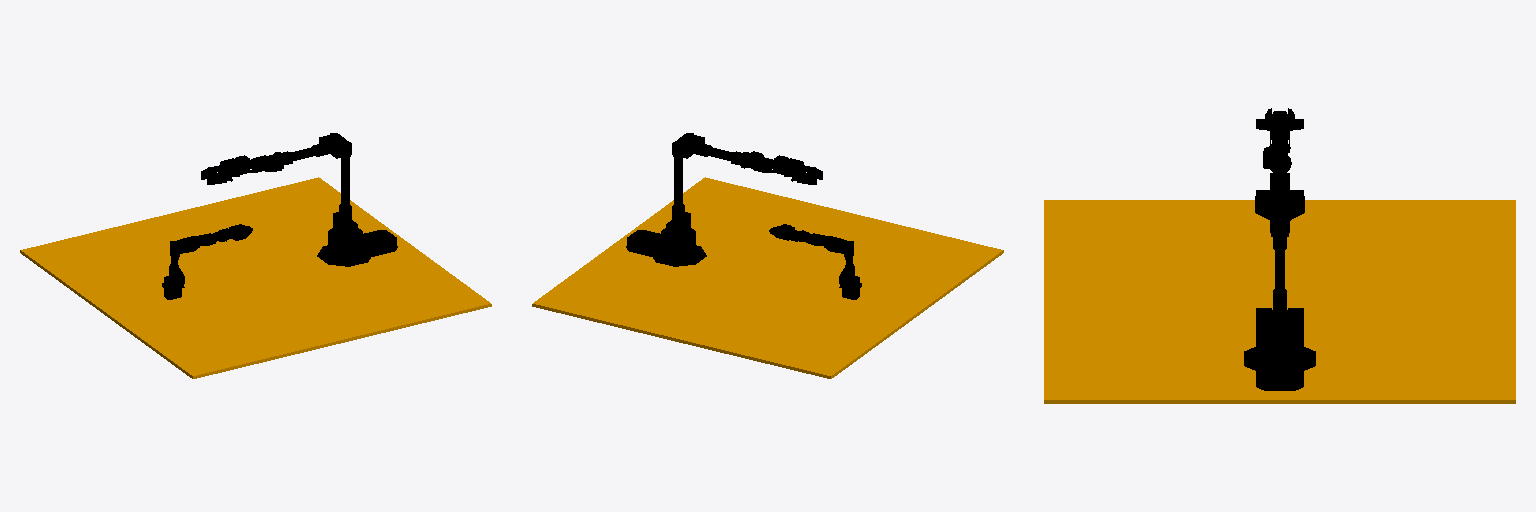
robot.urdf — wx250s:
<robot name="wx250s">


  <link name="floor">
    <visual>
      <origin xyz="0 0 0" rpy="0 0 0"/>
      <geometry>
        <box size="1 1 0.01"/>
      </geometry>
    </visual>
    <collision>
      <origin xyz="0 0 0" rpy="0 0 0"/>
      <geometry>
        <box size="1 1 0.01"/>
      </geometry>
    </collision>
  </link>

  <joint name="marcel_joint_floor" type="fixed">
    <parent link="floor"/>
    <child link="link0"/>
    <origin xyz="-0.3 0 0" rpy="1.5708 0 -1.5708"/>
  </joint>

  <joint name="wx250s_joint_floor" type="fixed">
    <parent link="floor"/>
    <child link="wx250s/base_link"/>
    <origin xyz="0.3 0 0" rpy="0 0 3.1415"/>
  </joint>





  <link name="link0">
    <visual>
      <origin xyz="0 0 0" rpy="0 0 0"/>
      <geometry>
        <mesh filename="package://meshes/marcel_meshes/link0.dae" scale="0.001 0.001 0.001"/>
      </geometry>
    </visual>
    <collision>
      <origin xyz="0 0 0" rpy="0 0 0"/>
      <geometry>
        <mesh filename="package://meshes/marcel_meshes/link0.dae" scale="0.001 0.001 0.001"/>
      </geometry>
    </collision>
  </link>


  <link name="link1">
    <visual>
      <origin xyz="0 0 0.03525" rpy="0 0 0"/>
      <geometry>
        <mesh filename="package://meshes/marcel_meshes/link1.dae" scale="0.001 0.001 0.001"/>
      </geometry>
    </visual>
    <collision>
      <origin xyz="0 0 0.02525" rpy="0 0 0"/>
      <geometry>
        <mesh filename="package://meshes/marcel_meshes/link1.dae" scale="0.001 0.001 0.001"/>
      </geometry>
    </collision>
  </link>

  <joint name="joint0" type="revolute">
    <parent link="link0"/>
    <child link="link1"/>
    <origin xyz="0 0 -0.03525" rpy="0 0 0"/>
    <axis xyz="0 1 0"/>
    <limit lower="-1.57" upper="1.57" effort="100" velocity="1"/>
  </joint>

  <link name="link2">
    <visual>
      <origin xyz="0 -0.0533 0.03525" rpy="0 0 0"/>
      <geometry>
        <mesh filename="package://meshes/marcel_meshes/link2.dae" scale="0.001 0.001 0.001"/>
      </geometry>
    </visual>
    <collision>
      <origin xyz="0 -0.0533 0.03525" rpy="0 0 0"/>
      <geometry>
        <mesh filename="package://meshes/marcel_meshes/link2.dae" scale="0.001 0.001 0.001"/>
      </geometry>
    </collision>
  </link>

  <joint name="joint1" type="revolute">
    <parent link="link1"/>
    <child link="link2"/>
    <origin xyz="0 0.0533 0" rpy="0 0 0"/>
    <axis xyz="1 0 0"/>
    <limit lower="-0.174533" upper="1.39626" effort="100" velocity="1"/>
  </joint>

  <link name="link3">
    <visual>
      <origin xyz="0 -0.15976 0.0605" rpy="0 0 0"/>
      <geometry>
        <mesh filename="package://meshes/marcel_meshes/link3.dae" scale="0.001 0.001 0.001"/>
      </geometry>
    </visual>
    <collision>
      <origin xyz="0 -0.15976 0.0605" rpy="0 0 0"/>
      <geometry>
        <mesh filename="package://meshes/marcel_meshes/link3.dae" scale="0.001 0.001 0.001"/>
      </geometry>
    </collision>
  </link>

  <joint name="joint2" type="revolute">
    <parent link="link2"/>
    <child link="link3"/>
    <origin xyz="0 0.10646 -0.02525" rpy="0 0 0"/>
    <axis xyz="1 0 0"/>
    <limit lower="-1.74533" upper="1.39626" effort="100" velocity="1"/>
  </joint>

  <link name="link4">
    <visual>
      <origin xyz="0 -0.16092 0.1755" rpy="0 0 0"/>
      <geometry>
        <mesh filename="package://meshes/marcel_meshes/link4.dae" scale="0.001 0.001 0.001"/>
      </geometry>
    </visual>
    <collision>
      <origin xyz="0 -0.16092 0.1755" rpy="0 0 0"/>
      <geometry>
        <mesh filename="package://meshes/marcel_meshes/link4.dae" scale="0.001 0.001 0.001"/>
      </geometry>
    </collision>
  </link>

  <joint name="joint3" type="revolute">
    <parent link="link3"/>
    <child link="link4"/>
    <origin xyz="0 0.00116 -0.115" rpy="0 0 0"/>
    <axis xyz="1 0 0"/>
    <limit lower="-1.57" upper="1.57" effort="100" velocity="1"/>
  </joint>

  <!-- Link 5 -->
  <link name="link5">
    <visual>
      <origin xyz="-0.00136 -0.16093 0.22009" rpy="0 0 0"/>
      <geometry>
        <mesh filename="package://meshes/marcel_meshes/link5.dae" scale="0.001 0.001 0.001"/>
      </geometry>
    </visual>
    <collision>
      <origin xyz="-0.00136 -0.16093 0.22009" rpy="0 0 0"/>
      <geometry>
        <mesh filename="package://meshes/marcel_meshes/link5.dae" scale="0.001 0.001 0.001"/>
      </geometry>
    </collision>
  </link>

  <joint name="joint4" type="revolute">
    <parent link="link4"/>
    <child link="link5"/>
    <origin xyz="0.00136 0 -0.04459" rpy="0 0 0"/>
    <axis xyz="0 0 1"/>
    <limit lower="-3.14" upper="3.14" effort="100" velocity="1"/>
  </joint>

  <!-- Link 6 -->
  <link name="link6">
    <visual>
      <origin xyz="-0.00876 -0.16093 0.23324" rpy="0 0 0"/>
      <geometry>
        <mesh filename="package://meshes/marcel_meshes/link6.dae" scale="0.001 0.001 0.001"/>
      </geometry>
    </visual>
    <collision>
      <origin xyz="0 0 0" rpy="0 0 0"/>
      <geometry>
        <mesh filename="package://meshes/marcel_meshes/link6.dae" scale="0.001 0.001 0.001"/>
      </geometry>
    </collision>
  </link>

  <joint name="joint5" type="revolute">
    <parent link="link5"/>
    <child link="link6"/>
    <origin xyz="0.0074 0 -0.01315" rpy="0 0 0"/>
    <axis xyz="0 -1 0"/>
    <limit lower="-0.0872665" upper="1.39626" effort="100" velocity="1"/>
  </joint>

  <link name='ball'>
    <origin xyz="0 0 0" rpy="0 0 0"/>
  </link>
  <joint name="ball" type="fixed">
    <parent link="link5"/>
    <child link="ball"/>
    <origin xyz="-0.01462 -0.00054 -0.05572" rpy="0 0 0"/>
  </joint>








  <material name="interbotix_black">
    <texture filename="package://meshes/interbotix_black.png" />
  </material>
  <link name="wx250s/base_link">
    <visual>
      <origin rpy="0 0 1.5707963267948966" xyz="0 0 0" />
      <geometry>
        <mesh filename="package://meshes/wx250s_meshes/wx250s_1_base.dae" scale="0.001 0.001 0.001" />
      </geometry>
      <material name="interbotix_black" />
    </visual>
    <collision>
      <origin rpy="0 0 1.5707963267948966" xyz="0 0 0" />
      <geometry>
        <mesh filename="package://meshes/wx250s_meshes/wx250s_1_base.dae" scale="0.001 0.001 0.001" />
      </geometry>
    </collision>
    <inertial>
      <origin rpy="0 0 1.5707963267948966" xyz="-0.0380446000 0.0006138920 0.0193354000" />
      <mass value="0.538736" />
      <inertia ixx="0.0021150000" ixy="-0.0000163500" ixz="0.0000006998" iyy="0.0006921000" iyz="0.0000464200" izz="0.0025240000" />
    </inertial>
  </link>
  <joint name="waist" type="revolute">
    <axis xyz="0 0 1" />
    <limit effort="10" lower="-3.141582653589793" upper="3.141582653589793" velocity="3.141592653589793" />
    <origin rpy="0 0 0" xyz="0 0 0.072" />
    <parent link="wx250s/base_link" />
    <child link="wx250s/shoulder_link" />
    <dynamics friction="0.1" />
  </joint>
  <transmission name="trans_waist">
    <type>transmission_interface/SimpleTransmission</type>
    <joint name="waist">
      <hardwareInterface>hardware_interface/EffortJointInterface</hardwareInterface>
    </joint>
    <actuator name="waist_motor">
      <mechanicalReduction>1</mechanicalReduction>
    </actuator>
  </transmission>
  <link name="wx250s/shoulder_link">
    <visual>
      <origin rpy="0 0 1.5707963267948966" xyz="0 0 -0.003" />
      <geometry>
        <mesh filename="package://meshes/wx250s_meshes/wx250s_2_shoulder.dae" scale="0.001 0.001 0.001" />
      </geometry>
      <material name="interbotix_black" />
    </visual>
    <collision>
      <origin rpy="0 0 1.5707963267948966" xyz="0 0 -0.003" />
      <geometry>
        <mesh filename="package://meshes/wx250s_meshes/wx250s_2_shoulder.dae" scale="0.001 0.001 0.001" />
      </geometry>
    </collision>
    <inertial>
      <origin rpy="0 0 1.5707963267948966" xyz="0.0000223482 0.0000414609 0.0066287000" />
      <mass value="0.480879" />
      <inertia ixx="0.0003790000" ixy="0.0000000022" ixz="-0.0000003561" iyy="0.0005557000" iyz="0.0000012245" izz="0.0005889000" />
    </inertial>
  </link>
  <joint name="shoulder" type="revolute">
    <axis xyz="0 1 0" />
    <limit effort="20" lower="-1.8849555921538759" upper="1.9896753472735358" velocity="3.141592653589793" />
    <origin rpy="0 0 0" xyz="0 0 0.03865" />
    <parent link="wx250s/shoulder_link" />
    <child link="wx250s/upper_arm_link" />
    <dynamics friction="0.1" />
  </joint>
  <transmission name="trans_shoulder">
    <type>transmission_interface/SimpleTransmission</type>
    <joint name="shoulder">
      <hardwareInterface>hardware_interface/EffortJointInterface</hardwareInterface>
    </joint>
    <actuator name="shoulder_motor">
      <mechanicalReduction>1</mechanicalReduction>
    </actuator>
  </transmission>
  <link name="wx250s/upper_arm_link">
    <visual>
      <origin rpy="0 0 1.5707963267948966" xyz="0 0 0" />
      <geometry>
        <mesh filename="package://meshes/wx250s_meshes/wx250s_3_upper_arm.dae" scale="0.001 0.001 0.001" />
      </geometry>
      <material name="interbotix_black" />
    </visual>
    <collision>
      <origin rpy="0 0 1.5707963267948966" xyz="0 0 0" />
      <geometry>
        <mesh filename="package://meshes/wx250s_meshes/wx250s_3_upper_arm.dae" scale="0.001 0.001 0.001" />
      </geometry>
    </collision>
    <inertial>
      <origin rpy="0 0 1.5707963267948966" xyz="0.0171605000 0.0000002725 0.1913230000" />
      <mass value="0.430811" />
      <inertia ixx="0.0034630000" ixy="-0.0000000001" ixz="-0.0000000002" iyy="0.0035870000" iyz="0.0004272000" izz="0.0004566000" />
    </inertial>
  </link>
  <joint name="elbow" type="revolute">
    <axis xyz="0 1 0" />
    <limit effort="15" lower="-2.1467549799530254" upper="1.6057029118347832" velocity="3.141592653589793" />
    <origin rpy="0 0 0" xyz="0.04975 0 0.25" />
    <parent link="wx250s/upper_arm_link" />
    <child link="wx250s/upper_forearm_link" />
    <dynamics friction="0.1" />
  </joint>
  <transmission name="trans_elbow">
    <type>transmission_interface/SimpleTransmission</type>
    <joint name="elbow">
      <hardwareInterface>hardware_interface/EffortJointInterface</hardwareInterface>
    </joint>
    <actuator name="elbow_motor">
      <mechanicalReduction>1</mechanicalReduction>
    </actuator>
  </transmission>
  <link name="wx250s/upper_forearm_link">
    <visual>
      <origin rpy="0 0 0" xyz="0 0 0" />
      <geometry>
        <mesh filename="package://meshes/wx250s_meshes/wx250s_4_upper_forearm.dae" scale="0.001 0.001 0.001" />
      </geometry>
      <material name="interbotix_black" />
    </visual>
    <collision>
      <origin rpy="0 0 0" xyz="0 0 0" />
      <geometry>
        <mesh filename="package://meshes/wx250s_meshes/wx250s_4_upper_forearm.dae" scale="0.001 0.001 0.001" />
      </geometry>
    </collision>
    <inertial>
      <origin rpy="0 0 0" xyz="0.1079630000 0.0001158760 0" />
      <mass value="0.234589" />
      <inertia ixx="0.0000397100" ixy="0.0000023528" ixz="0" iyy="0.0008878000" iyz="0" izz="0.0008880000" />
    </inertial>
  </link>
  <joint name="forearm_roll" type="revolute">
    <axis xyz="1 0 0" />
    <limit effort="2" lower="-3.141582653589793" upper="3.141582653589793" velocity="3.141592653589793" />
    <origin rpy="0 0 0" xyz="0.175 0 0" />
    <parent link="wx250s/upper_forearm_link" />
    <child link="wx250s/lower_forearm_link" />
    <dynamics friction="0.1" />
  </joint>
  <transmission name="trans_forearm_roll">
    <type>transmission_interface/SimpleTransmission</type>
    <joint name="forearm_roll">
      <hardwareInterface>hardware_interface/EffortJointInterface</hardwareInterface>
    </joint>
    <actuator name="forearm_roll_motor">
      <mechanicalReduction>1</mechanicalReduction>
    </actuator>
  </transmission>
  <link name="wx250s/lower_forearm_link">
    <visual>
      <origin rpy="3.141592653589793 0 0" xyz="0 0 0" />
      <geometry>
        <mesh filename="package://meshes/wx250s_meshes/wx250s_5_lower_forearm.dae" scale="0.001 0.001 0.001" />
      </geometry>
      <material name="interbotix_black" />
    </visual>
    <collision>
      <origin rpy="3.141592653589793 0 0" xyz="0 0 0" />
      <geometry>
        <mesh filename="package://meshes/wx250s_meshes/wx250s_5_lower_forearm.dae" scale="0.001 0.001 0.001" />
      </geometry>
    </collision>
    <inertial>
      <origin rpy="3.141592653589793 0 0" xyz="0.0374395000 0.0052225200 0" />
      <mass value="0.220991" />
      <inertia ixx="0.0000636900" ixy="-0.0000229200" ixz="0" iyy="0.0001677000" iyz="0" izz="0.0001834000" />
    </inertial>
  </link>
  <joint name="wrist_angle" type="revolute">
    <axis xyz="0 1 0" />
    <limit effort="5" lower="-1.7453292519943295" upper="2.1467549799530254" velocity="3.141592653589793" />
    <origin rpy="0 0 0" xyz="0.075 0 0" />
    <parent link="wx250s/lower_forearm_link" />
    <child link="wx250s/wrist_link" />
    <dynamics friction="0.1" />
  </joint>
  <transmission name="trans_wrist_angle">
    <type>transmission_interface/SimpleTransmission</type>
    <joint name="wrist_angle">
      <hardwareInterface>hardware_interface/EffortJointInterface</hardwareInterface>
    </joint>
    <actuator name="wrist_angle_motor">
      <mechanicalReduction>1</mechanicalReduction>
    </actuator>
  </transmission>
  <link name="wx250s/wrist_link">
    <visual>
      <origin rpy="0 0 1.5707963267948966" xyz="0 0 0" />
      <geometry>
        <mesh filename="package://meshes/wx250s_meshes/wx250s_6_wrist.dae" scale="0.001 0.001 0.001" />
      </geometry>
      <material name="interbotix_black" />
    </visual>
    <collision>
      <origin rpy="0 0 1.5707963267948966" xyz="0 0 0" />
      <geometry>
        <mesh filename="package://meshes/wx250s_meshes/wx250s_6_wrist.dae" scale="0.001 0.001 0.001" />
      </geometry>
    </collision>
    <inertial>
      <origin rpy="0 0 1.5707963267948966" xyz="0.0423600000 -0.0000106630 0.0105770000" />
      <mass value="0.084957" />
      <inertia ixx="0.0000308200" ixy="0.0000000191" ixz="0.0000000023" iyy="0.0000282200" iyz="0.0000025481" izz="0.0000315200" />
    </inertial>
  </link>
  <joint name="wrist_rotate" type="revolute">
    <axis xyz="1 0 0" />
    <limit effort="1" lower="-3.141582653589793" upper="3.141582653589793" velocity="3.141592653589793" />
    <origin rpy="0 0 0" xyz="0.065 0 0" />
    <parent link="wx250s/wrist_link" />
    <child link="wx250s/gripper_link" />
    <dynamics friction="0.1" />
  </joint>
  <transmission name="trans_wrist_rotate">
    <type>transmission_interface/SimpleTransmission</type>
    <joint name="wrist_rotate">
      <hardwareInterface>hardware_interface/EffortJointInterface</hardwareInterface>
    </joint>
    <actuator name="wrist_rotate_motor">
      <mechanicalReduction>1</mechanicalReduction>
    </actuator>
  </transmission>
  <link name="wx250s/gripper_link">
    <visual>
      <origin rpy="0 0 1.5707963267948966" xyz="-0.02 0 0" />
      <geometry>
        <mesh filename="package://meshes/wx250s_meshes/wx250s_7_gripper.dae" scale="0.001 0.001 0.001" />
      </geometry>
      <material name="interbotix_black" />
    </visual>
    <collision>
      <origin rpy="0 0 1.5707963267948966" xyz="-0.02 0 0" />
      <geometry>
        <mesh filename="package://meshes/wx250s_meshes/wx250s_7_gripper.dae" scale="0.001 0.001 0.001" />
      </geometry>
    </collision>
    <inertial>
      <origin rpy="0 0 1.5707963267948966" xyz="0.0216310000 0.0000002516 0.0114100000" />
      <mass value="0.072885" />
      <inertia ixx="0.0000253700" ixy="0.0000000000" ixz="0.0000000000" iyy="0.0000183600" iyz="0.0000004340" izz="0.0000167400" />
    </inertial>
  </link>
  <joint name="ee_arm" type="fixed">
    <axis xyz="1 0 0" />
    <origin rpy="0 0 0" xyz="0.043 0 0" />
    <parent link="wx250s/gripper_link" />
    <child link="wx250s/ee_arm_link" />
  </joint>
  <link name="wx250s/ee_arm_link">
    <inertial>
      <mass value="0.001" />
      <inertia ixx="0.001" ixy="0" ixz="0" iyy="0.001" iyz="0" izz="0.001" />
    </inertial>
  </link>
  <joint name="gripper" type="continuous">
    <axis xyz="1 0 0" />
    <limit effort="1" velocity="3.141592653589793" />
    <origin rpy="0 0 0" xyz="0.0055 0 0" />
    <parent link="wx250s/ee_arm_link" />
    <child link="wx250s/gripper_prop_link" />
    <dynamics friction="0.1" />
  </joint>
  <transmission name="trans_gripper">
    <type>transmission_interface/SimpleTransmission</type>
    <joint name="gripper">
      <hardwareInterface>hardware_interface/EffortJointInterface</hardwareInterface>
    </joint>
    <actuator name="gripper_motor">
      <mechanicalReduction>1</mechanicalReduction>
    </actuator>
  </transmission>
  <link name="wx250s/gripper_prop_link">
    <visual>
      <origin rpy="0 0 1.5707963267948966" xyz="-0.0685 0 0" />
      <geometry>
        <mesh filename="package://meshes/wx250s_meshes/wx250s_8_gripper_prop.dae" scale="0.001 0.001 0.001" />
      </geometry>
      <material name="interbotix_black" />
    </visual>
    <collision>
      <origin rpy="0 0 1.5707963267948966" xyz="-0.0685 0 0" />
      <geometry>
        <mesh filename="package://meshes/wx250s_meshes/wx250s_8_gripper_prop.dae" scale="0.001 0.001 0.001" />
      </geometry>
    </collision>
    <inertial>
      <origin rpy="0 0 1.5707963267948966" xyz="0.0008460000 -0.0000016817 0.0000420000" />
      <mass value="0.00434" />
      <inertia ixx="0.0000005923" ixy="0.0000000000" ixz="0.0000003195" iyy="0.0000011156" iyz="-0.0000000004" izz="0.0000005743" />
    </inertial>
  </link>
  
  
  <joint name="gripper_bar" type="fixed">
    <axis xyz="1 0 0" />
    <origin rpy="0 0 0" xyz="0 0 0" />
    <parent link="wx250s/ee_arm_link" />
    <child link="wx250s/gripper_bar_link" />
  </joint>
  <link name="wx250s/gripper_bar_link">
    <visual>
      <origin rpy="0 0 1.5707963267948966" xyz="-0.063 0 0" />
      <geometry>
        <mesh filename="package://meshes/wx250s_meshes/wx250s_9_gripper_bar.dae" scale="0.001 0.001 0.001" />
      </geometry>
      <material name="interbotix_black" />
    </visual>
    <collision>
      <origin rpy="0 0 1.5707963267948966" xyz="-0.063 0 0" />
      <geometry>
        <mesh filename="package://meshes/wx250s_meshes/wx250s_9_gripper_bar.dae" scale="0.001 0.001 0.001" />
      </geometry>
    </collision>
    <inertial>
      <origin rpy="0 0 1.5707963267948966" xyz="0.0096870000 0.0000008177 0.0049620000" />
      <mass value="0.034199" />
      <inertia ixx="0.0000074125" ixy="-0.0000000008" ixz="-0.0000000006" iyy="0.0000284300" iyz="-0.0000013889" izz="0.0000286000" />
    </inertial>
  </link>
  <joint name="ee_bar" type="fixed">
    <axis xyz="1 0 0" />
    <origin rpy="0 0 0" xyz="0.023 0 0" />
    <parent link="wx250s/gripper_bar_link" />
    <child link="wx250s/fingers_link" />
  </joint>
  <link name="wx250s/fingers_link">
    <inertial>
      <mass value="0.001" />
      <inertia ixx="0.001" ixy="0" ixz="0" iyy="0.001" iyz="0" izz="0.001" />
    </inertial>
  </link>
  
  <joint name="left_finger" type="prismatic">
    <axis xyz="0 1 0" />
    <limit effort="5" lower="0.015" upper="0.037" velocity="1" />
    <origin rpy="0 0 0" xyz="0 0 0" />
    <parent link="wx250s/fingers_link" />
    <child link="wx250s/left_finger_link" />
    <dynamics friction="0.1" />
  </joint>
  <transmission name="trans_left_finger">
    <type>transmission_interface/SimpleTransmission</type>
    <joint name="left_finger">
      <hardwareInterface>hardware_interface/EffortJointInterface</hardwareInterface>
    </joint>
    <actuator name="left_finger_motor">
      <mechanicalReduction>1</mechanicalReduction>
    </actuator>
  </transmission>
  <link name="wx250s/left_finger_link">
    <visual>
      <origin rpy="3.141592653589793 3.141592653589793 0" xyz="0 0.005 0" />
      <geometry>
        <mesh filename="package://meshes/wx250s_meshes/wx250s_10_gripper_finger.dae" scale="0.001 0.001 0.001" />
      </geometry>
      <material name="interbotix_black" />
    </visual>
    <collision>
      <origin rpy="3.141592653589793 3.141592653589793 0" xyz="0 0.005 0" />
      <geometry>
        <mesh filename="package://meshes/wx250s_meshes/wx250s_10_gripper_finger.dae" scale="0.001 0.001 0.001" />
      </geometry>
    </collision>
    <inertial>
      <origin rpy="3.141592653589793 3.141592653589793 1.5707963267948966" xyz="0.0138160000 0.0000000000 0.0000000000" />
      <mass value="0.016246" />
      <inertia ixx="0.0000047310" ixy="-0.0000004560" ixz="0.0000000000" iyy="0.0000015506" iyz="0.0000000000" izz="0.0000037467" />
    </inertial>
  </link>
  <joint name="right_finger" type="prismatic">
    <axis xyz="0 1 0" />
    <limit effort="5" lower="-0.037" upper="-0.015" velocity="1" />
    <origin rpy="0 0 0" xyz="0 0 0" />
    <parent link="wx250s/fingers_link" />
    <child link="wx250s/right_finger_link" />
    <dynamics friction="0.1" />
    <mimic joint="left_finger" multiplier="-1" offset="0" />
  </joint>
  <transmission name="trans_right_finger">
    <type>transmission_interface/SimpleTransmission</type>
    <joint name="right_finger">
      <hardwareInterface>hardware_interface/EffortJointInterface</hardwareInterface>
    </joint>
    <actuator name="right_finger_motor">
      <mechanicalReduction>1</mechanicalReduction>
    </actuator>
  </transmission>
  <link name="wx250s/right_finger_link">
    <visual>
      <origin rpy="0 3.141592653589793 0" xyz="0 -0.005 0" />
      <geometry>
        <mesh filename="package://meshes/wx250s_meshes/wx250s_10_gripper_finger.dae" scale="0.001 0.001 0.001" />
      </geometry>
      <material name="interbotix_black" />
    </visual>
    <collision>
      <origin rpy="0 3.141592653589793 0" xyz="0 -0.005 0" />
      <geometry>
        <mesh filename="package://meshes/wx250s_meshes/wx250s_10_gripper_finger.dae" scale="0.001 0.001 0.001" />
      </geometry>
    </collision>
    <inertial>
      <origin rpy="0 3.141592653589793 1.5707963267948966" xyz="0.0138160000 0.0000000000  0.0000000000" />
      <mass value="0.016246" />
      <inertia ixx="0.0000047310" ixy="0.0000004560" ixz="0.0000000000" iyy="0.0000015506" iyz="0.0000000000" izz="0.0000037467" />
    </inertial>
  </link>
  <joint name="ee_gripper" type="fixed">
    <axis xyz="1 0 0" />
    <origin rpy="0 0 0" xyz="0.027575 0 0" />
    <parent link="wx250s/fingers_link" />
    <child link="wx250s/ee_gripper_link" />
  </joint>
  <link name="wx250s/ee_gripper_link">
    <inertial>
      <mass value="0.001" />
      <inertia ixx="0.001" ixy="0" ixz="0" iyy="0.001" iyz="0" izz="0.001" />
    </inertial>
  </link>






</robot>

--- What the picture shows (computed from the rendered views, not written in the file) ---
The picture shows the robot from 3 angles, left to right: view 1: azimuth 30°, elevation 25°; view 2: azimuth 150°, elevation 25°; view 3: azimuth 270°, elevation 25°; orthographic projection.
Robot: wx250s — 23 links, 22 joints (12 revolute, 1 continuous, 2 prismatic, 7 fixed); root link floor; default pose: joints at zero except 2 at the middle of their limits (left_finger = 0.026, right_finger = -0.026).
Visible links, largest first — view 1: floor, wx250s/base_link, wx250s/upper_arm_link, wx250s/shoulder_link, wx250s/upper_forearm_link, link2; view 2: floor, wx250s/base_link, wx250s/upper_arm_link, wx250s/shoulder_link, wx250s/upper_forearm_link, link2; view 3: floor, wx250s/base_link, wx250s/upper_arm_link, wx250s/shoulder_link, wx250s/upper_forearm_link.
Boxes of the visible links, x1,y1,x2,y2 form: floor: (20,177,491,378); wx250s/base_link: (317,230,397,266); wx250s/upper_arm_link: (319,133,351,226); wx250s/shoulder_link: (328,212,362,240); wx250s/upper_forearm_link: (280,141,334,164); link2: (169,239,189,287); floor: (532,177,1003,378); wx250s/base_link: (626,230,706,266); wx250s/upper_arm_link: (672,133,704,226); wx250s/shoulder_link: (661,212,695,240); wx250s/upper_forearm_link: (689,141,743,164); link2: (834,239,854,287); floor: (1044,200,1515,403); wx250s/base_link: (1244,333,1315,390); wx250s/upper_arm_link: (1255,190,1304,320); wx250s/shoulder_link: (1256,308,1303,340); wx250s/upper_forearm_link: (1270,155,1289,200).
Bounding box of the posed robot: 1 × 1 × 0.4009 m (x, y, z).
18 mesh visuals loaded from 17 distinct referenced files (17 Collada DAE).
